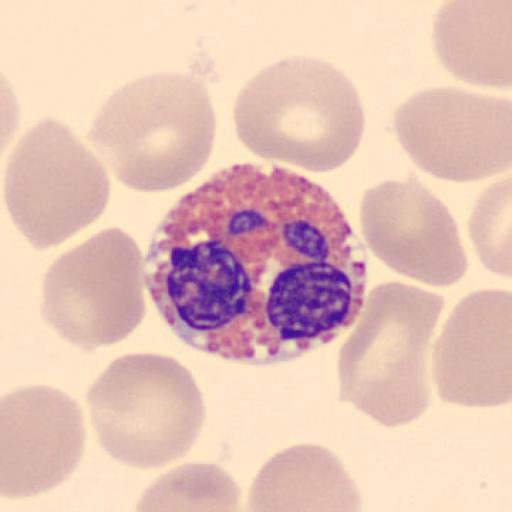RBC: (86, 69, 218, 193), (233, 52, 366, 175), (335, 278, 442, 426), (85, 349, 208, 472), (2, 114, 112, 251), (39, 225, 149, 352), (358, 173, 467, 288), (392, 83, 512, 184), (2, 382, 88, 500), (431, 286, 512, 410), (245, 441, 364, 512), (431, 0, 512, 90), (131, 460, 243, 512), (468, 173, 512, 280), (0, 71, 21, 177), (2, 70, 22, 153)
WBC: (144, 161, 366, 367)
